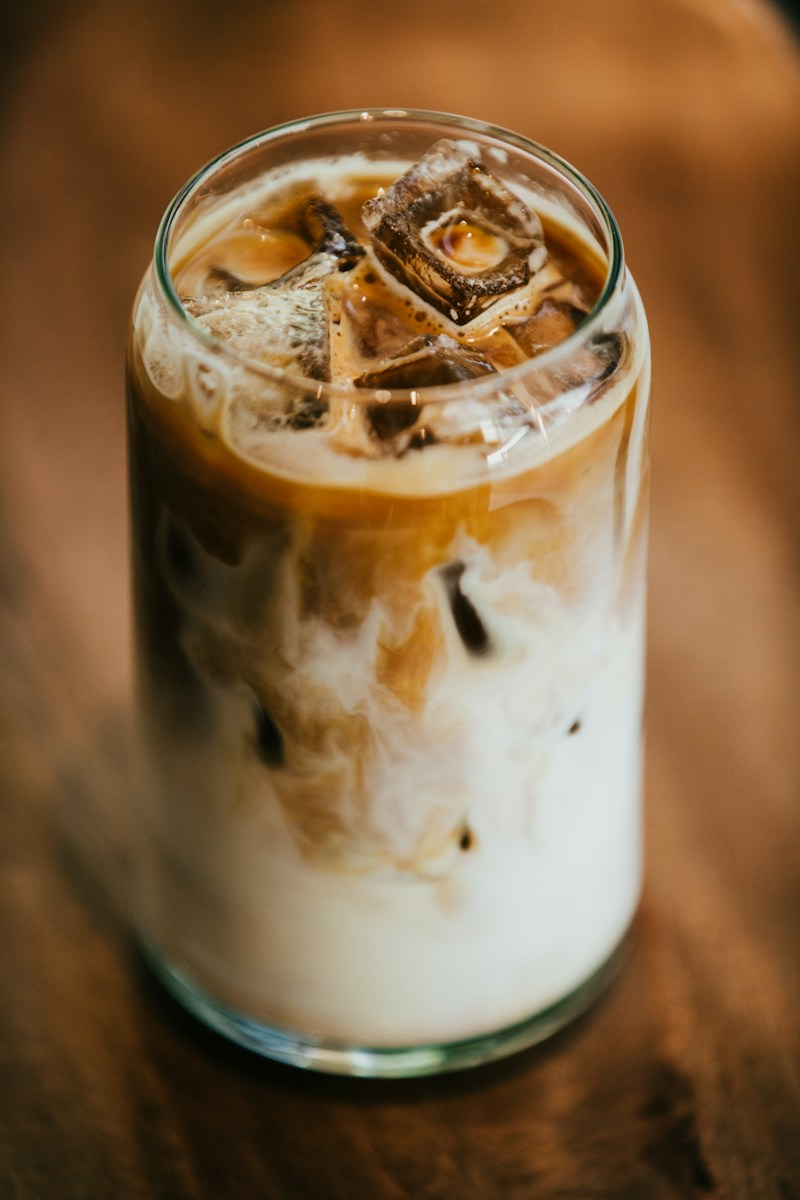cup: (121, 108, 655, 1082)
